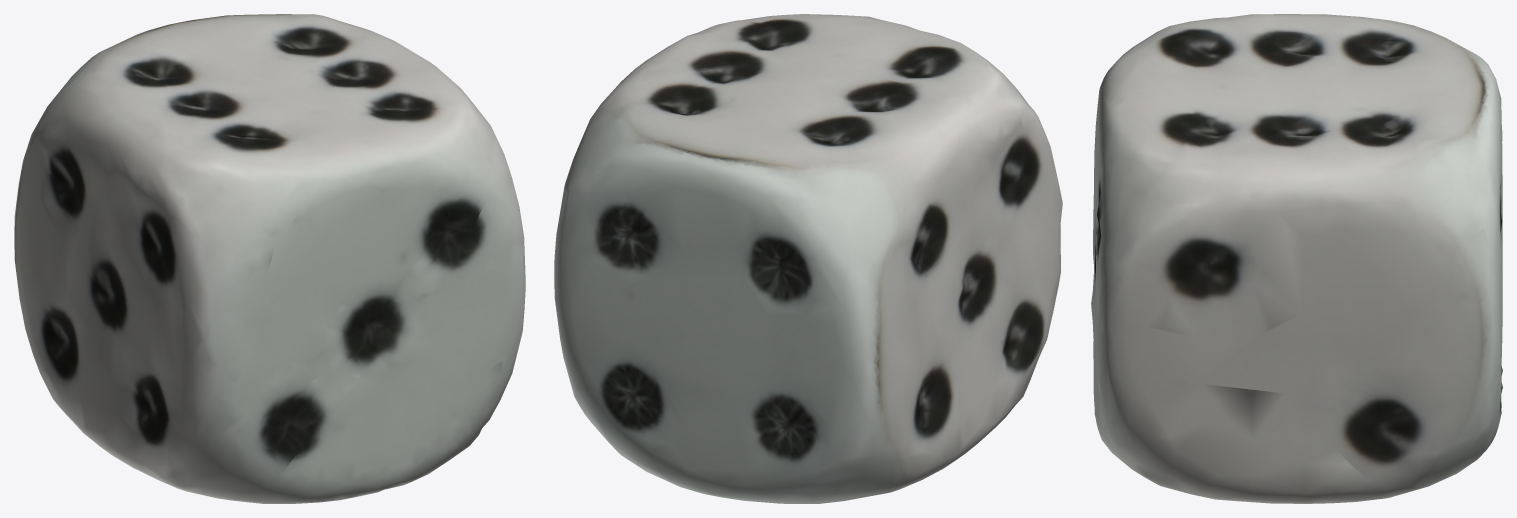
The picture shows the model from 3 angles, left to right: view 1: azimuth 30°, elevation 25°; view 2: azimuth 150°, elevation 25°; view 3: azimuth 270°, elevation 25°; orthographic projection.
Parts seen in each view (by area): view 1: textured.065; view 2: textured.065; view 3: textured.065.
Part boxes in pixels (bbox=[...]): textured.065: bbox=[14, 14, 525, 503]; textured.065: bbox=[554, 14, 1062, 503]; textured.065: bbox=[1091, 14, 1502, 503].
Bounding box in the file's own units: 0.0171 × 0.0171 × 0.0175.
Materials: 1 (1 with a texture image).
